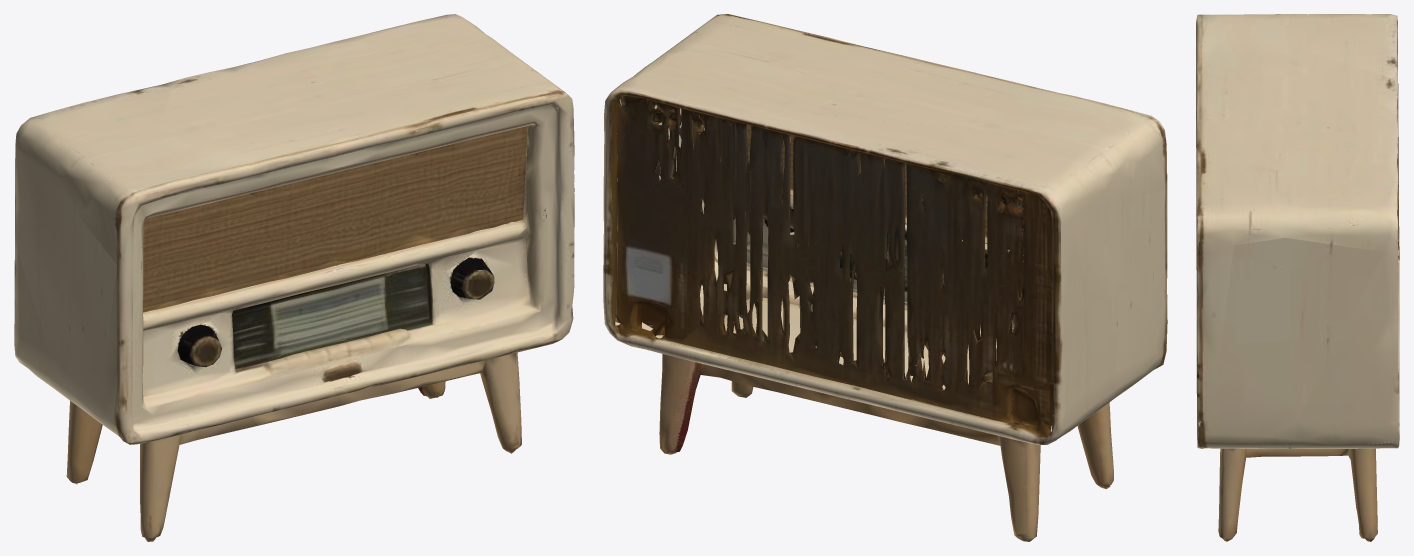
The model's file is radiola.glb.
3 renders of one model, left to right at view 1: azimuth 30°, elevation 25°; view 2: azimuth 150°, elevation 25°; view 3: azimuth 270°, elevation 25°, orthographic. The views are drawn at different scales.
Parts seen in each view (by area): view 1: geometry_0; view 2: geometry_0; view 3: geometry_0.
Boxes of the visible parts, box(x1,y1,x2,y2) form: geometry_0: box(14, 14, 574, 541); geometry_0: box(603, 14, 1167, 541); geometry_0: box(1196, 14, 1399, 541).
Size of the model in its own units: 1.1 by 0.85 by 0.45.
1 material, 1 textured.
